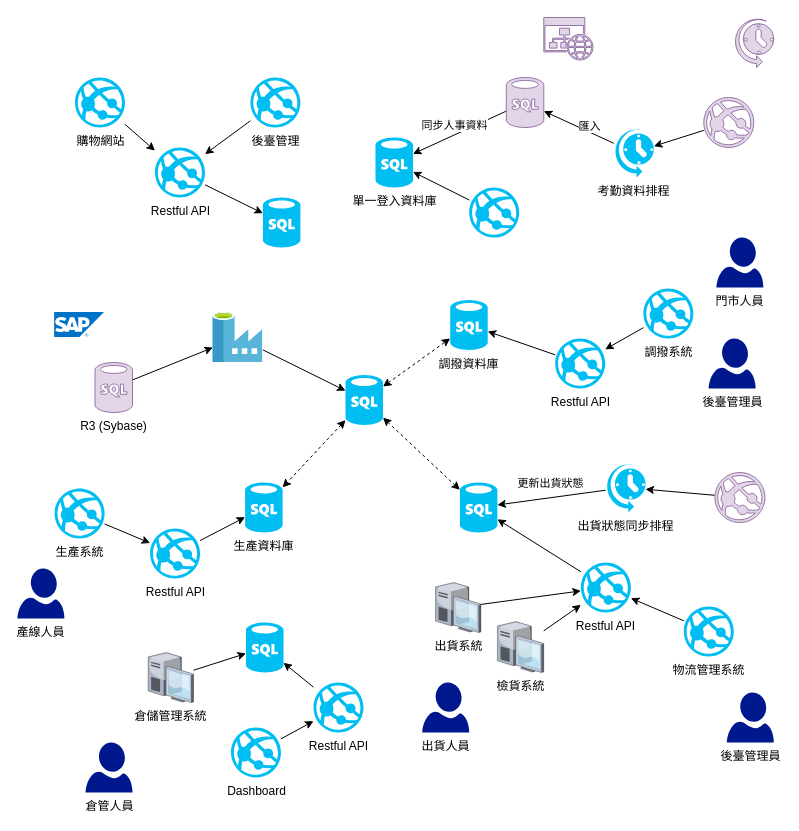
The diagram is 799 pixels wide and 831 high, and some of its shapes have lost their labels. The shapes that lost their labels are listed below. From the top down, each one's box as (x1, y1, x2, y2) in pixels, then its label:
(543, 16, 594, 60): 人事系統
(733, 16, 774, 68): 打卡系統
(505, 76, 544, 128): 人事系統資料庫
(703, 96, 754, 148): 考勤管理系統
(262, 197, 300, 247): 電商資料庫
(469, 187, 519, 237): 單一登入系統
(54, 312, 104, 337): SAP R3
(212, 312, 262, 362): Data Factory
(345, 374, 382, 424): R3 (SQL Database)
(459, 482, 497, 532): 物流系統資料庫
(714, 472, 765, 522): 第三方物流 API
(246, 622, 283, 672): 倉儲資料庫
